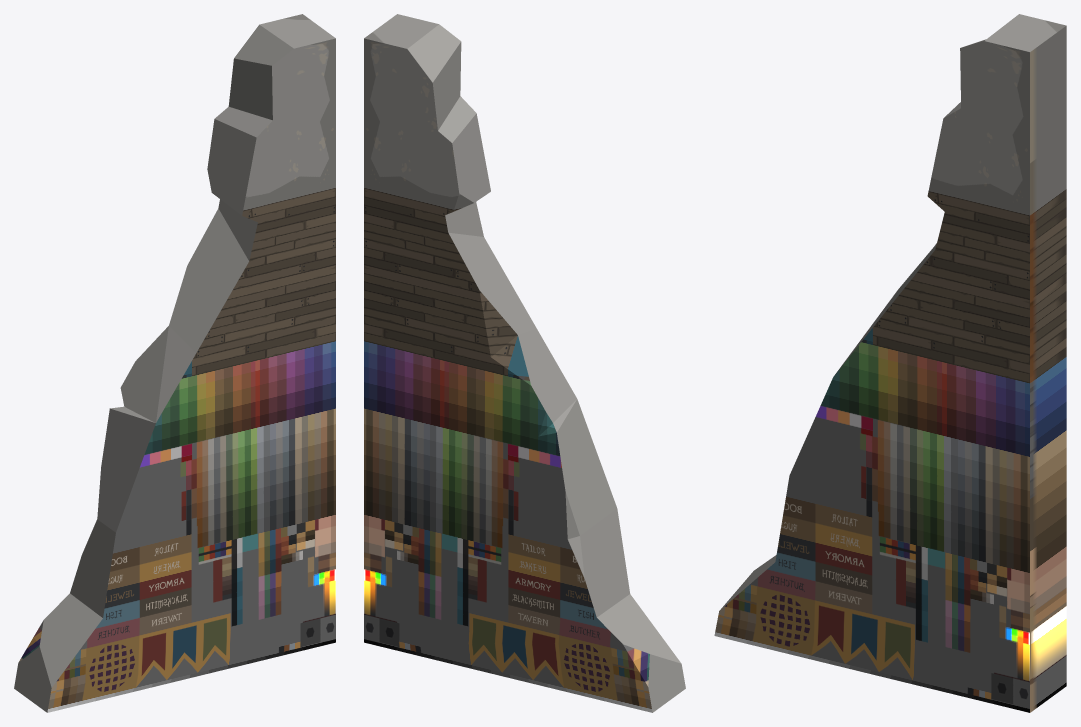
File: castle_ruin_top.gltf
The picture shows the model from 3 angles, left to right: view 1: azimuth 30°, elevation 25°; view 2: azimuth 150°, elevation 25°; view 3: azimuth 330°, elevation 25°; orthographic projection. The views are drawn at different scales.
Visible parts, largest first — view 1: castle_ruin_top; view 2: castle_ruin_top; view 3: castle_ruin_top.
Boxes of the visible parts, x1,y1,x2,y2 form: castle_ruin_top: (14, 14, 335, 712); castle_ruin_top: (364, 14, 685, 712); castle_ruin_top: (714, 14, 1066, 712).
Bounding box in the file's own units: 2.5 × 5 × 0.5.
1 material, 1 textured.
